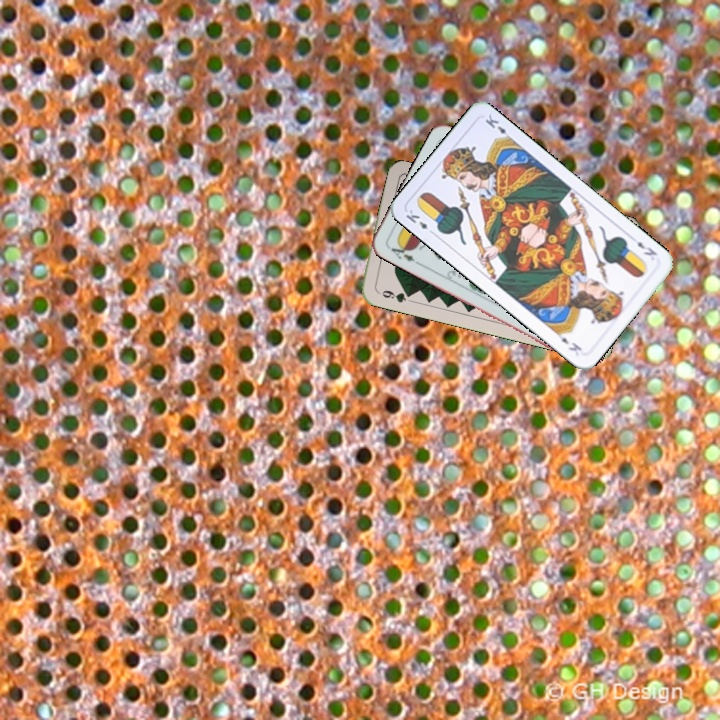EA: (384, 238, 422, 267)
EK: (401, 205, 438, 238), (633, 237, 660, 258)
G9: (373, 286, 414, 305)
